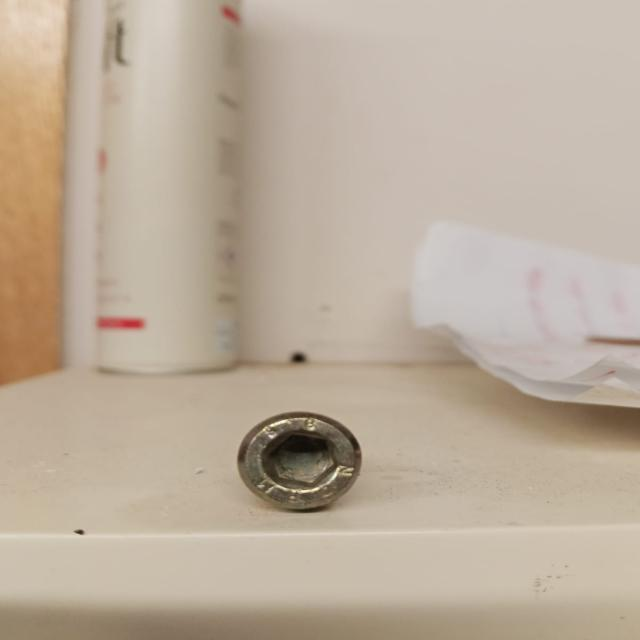allen: (237, 410, 363, 511)
